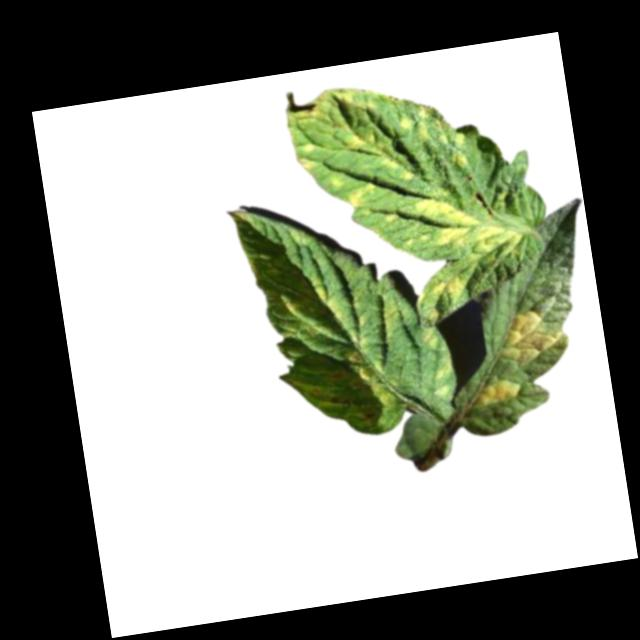Leaf_Mold: (283, 80, 398, 179), (413, 184, 527, 273), (493, 303, 570, 369), (345, 343, 395, 410), (474, 376, 525, 410), (437, 128, 472, 171), (399, 104, 432, 146), (347, 176, 381, 216), (377, 293, 405, 341), (430, 272, 465, 303), (280, 296, 312, 316), (432, 356, 456, 381)
